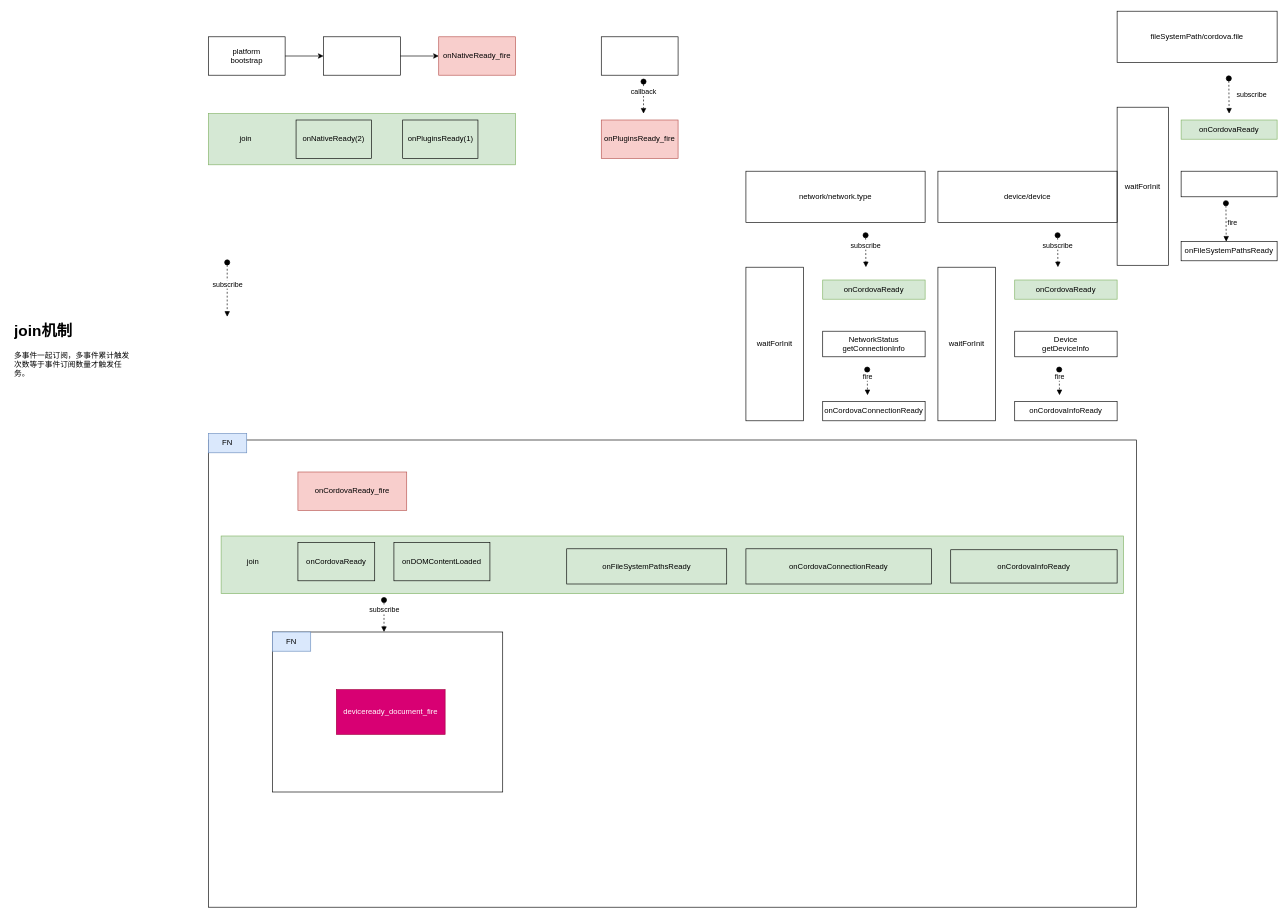
Some shapes in this 1288 by 918 pixel diagram are drawn without their labels. Each missing label, with the centre of its shape:
exec Init: the point at 361,55
File requestAllPaths: the point at 1228,184
pluginloader: the point at 639,55
